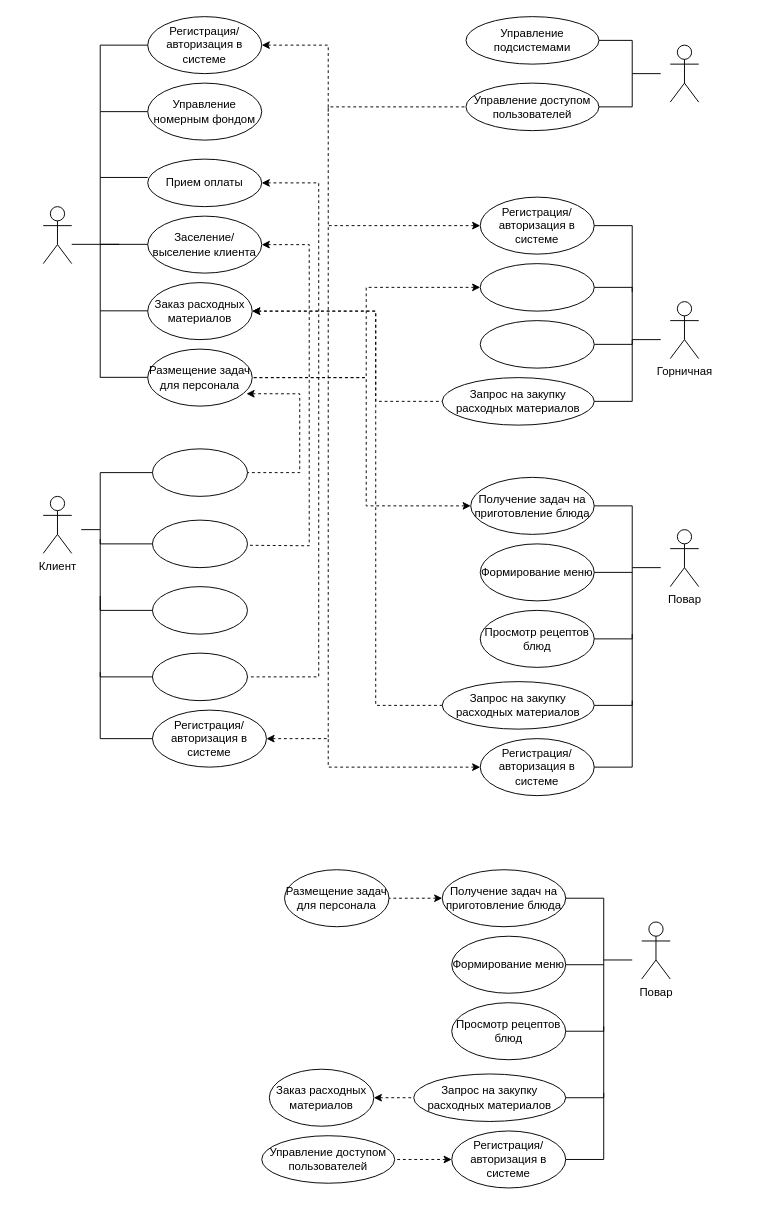
Some shapes in this 773 by 1205 pixel diagram are drawn without their labels. Each missing label, with the centre of its shape:
"Администратор" belongs at (x=57, y=235).
"Бронирование номера" belongs at (x=199, y=543).
"Заказ дополнительных услуг" belongs at (x=199, y=472).
"Контроль состояния уборки номеров" belongs at (x=536, y=344).
"Написание отзыва" belongs at (x=199, y=610).
"Оплата услуг" belongs at (x=199, y=676).
"Получение задач на уборку" belongs at (x=536, y=287).
"Системный администратор" belongs at (x=684, y=73).
